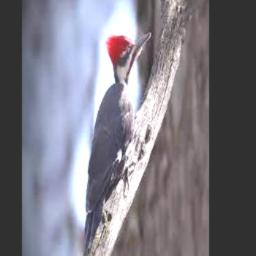Woodpecker: (83, 32, 151, 254)
